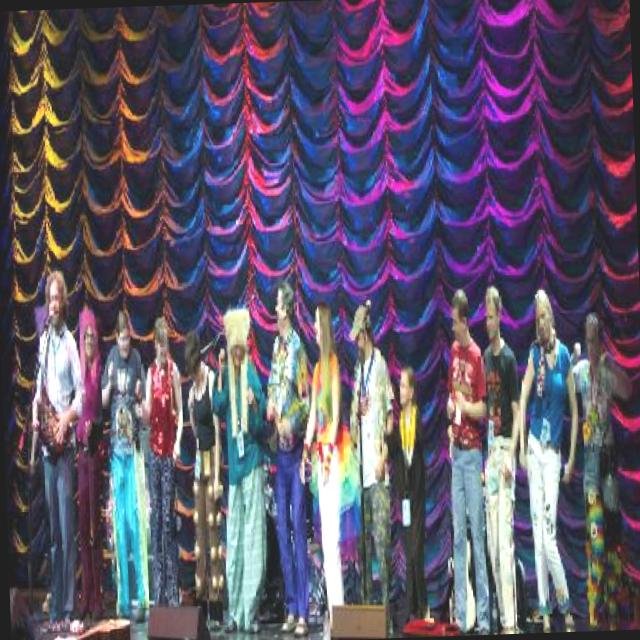Person: (24, 241, 640, 640)
